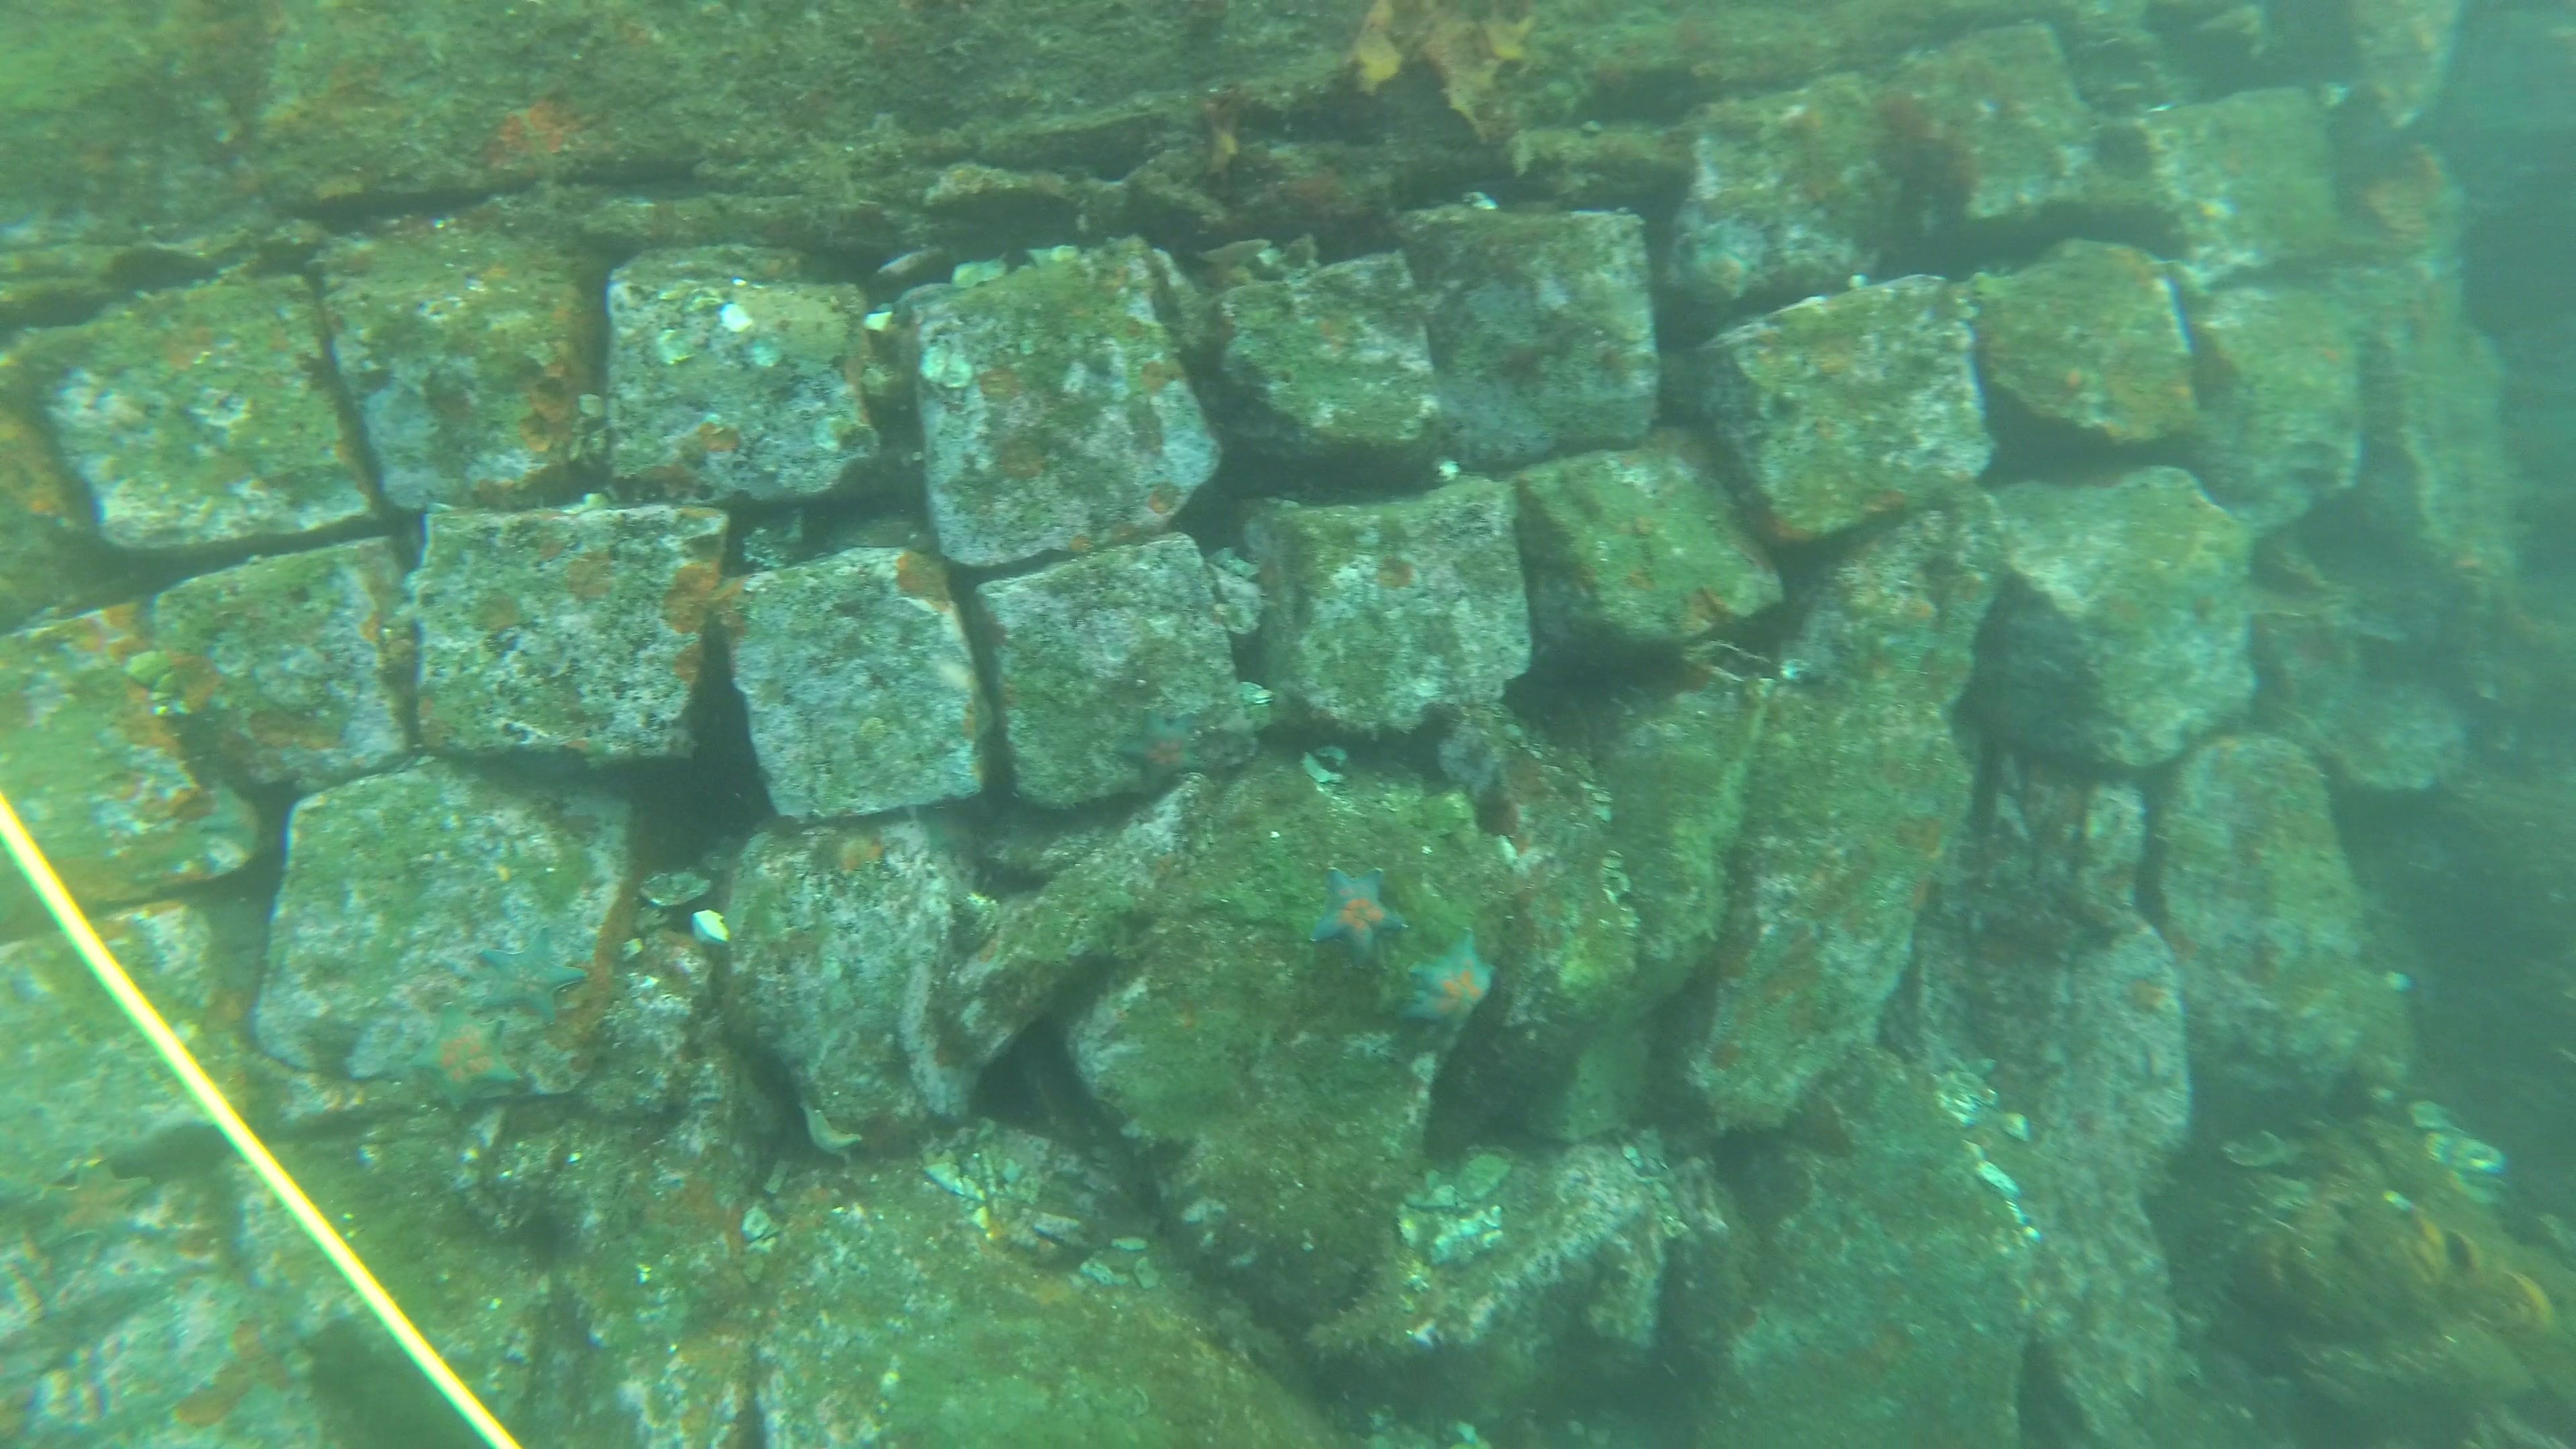starfish: (471, 931, 586, 1023), (416, 1008, 522, 1108), (1311, 860, 1410, 966), (1396, 943, 1493, 1039)
